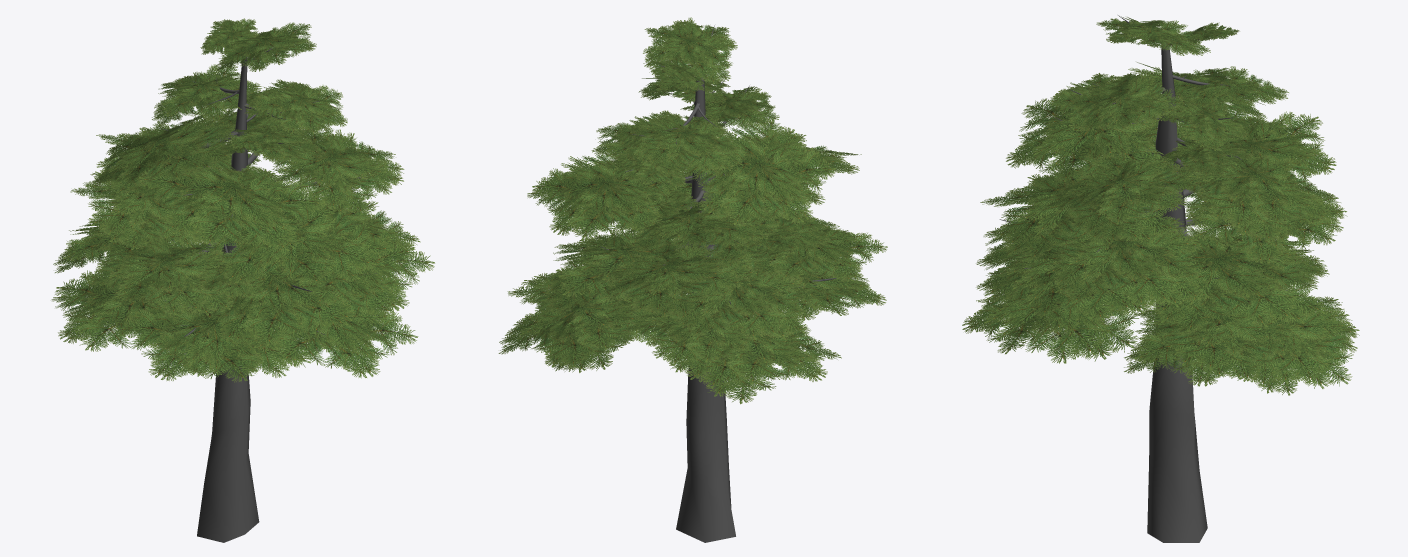
Rendered from arbol2.fbx.
3 renders of one model, left to right at view 1: azimuth 30°, elevation 25°; view 2: azimuth 150°, elevation 25°; view 3: azimuth 270°, elevation 25°, orthographic. The views are drawn at different scales.
Visible parts, largest first — view 1: pPlane224; view 2: pPlane224; view 3: pPlane224.
Part boxes in pixels (x1=…): pPlane224: x1=51, y1=18, x2=434, y2=542; pPlane224: x1=498, y1=17, x2=887, y2=542; pPlane224: x1=962, y1=15, x2=1359, y2=542.
Size of the model in its own units: 9.04 by 12.24 by 9.41.
